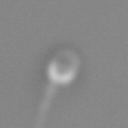normal: (21, 80, 60, 128)
